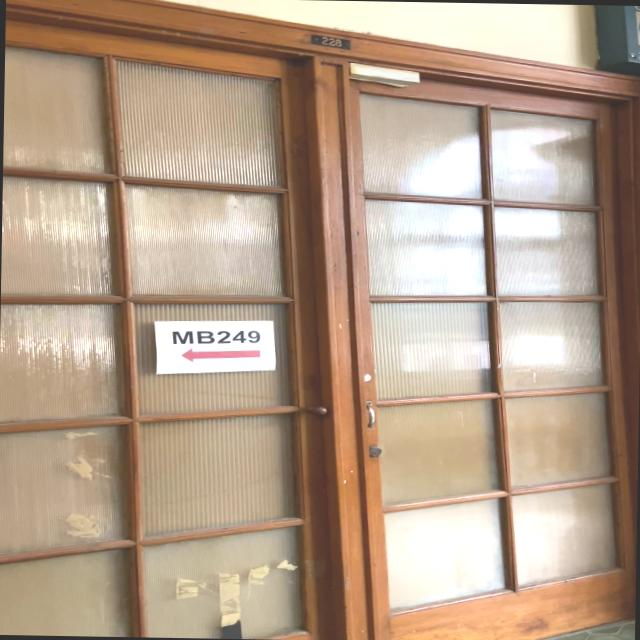room228: (308, 33, 352, 51)
